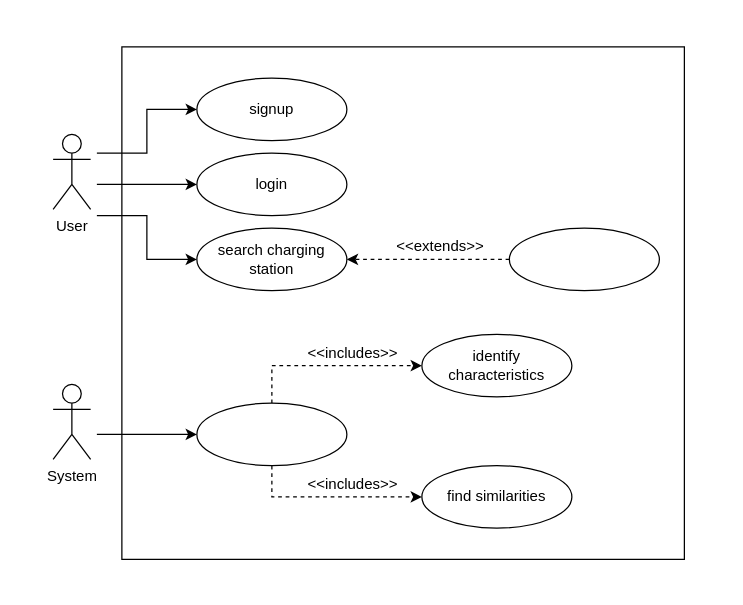
The diagram is 743 pixels wide and 605 high, and some of its shapes have lost their labels. Here are the shapes that lost their labels. From the top down, the centre of each, then its label:
(583,259): provide rating
(271,434): recommend a station
